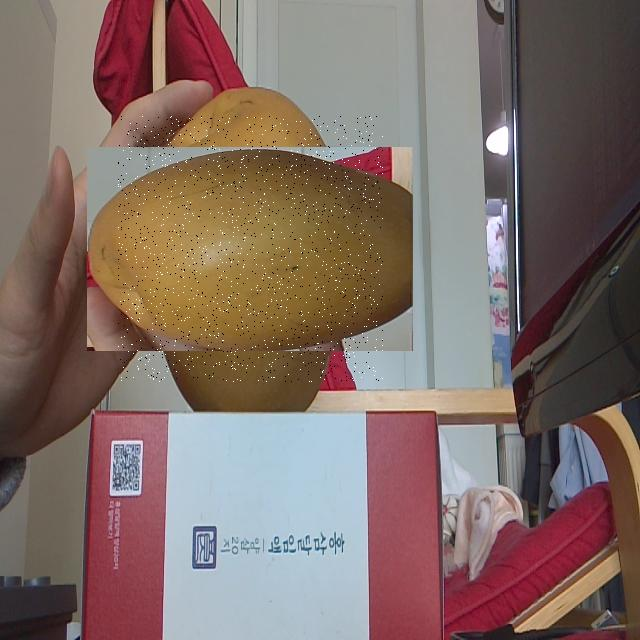pear: (118, 116, 383, 382)
